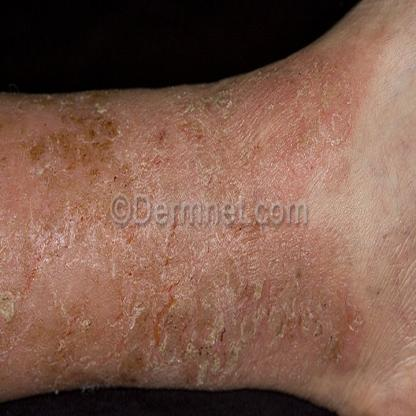Eczema: (117, 270, 249, 386), (11, 208, 100, 362), (266, 265, 367, 380), (19, 110, 138, 188)
